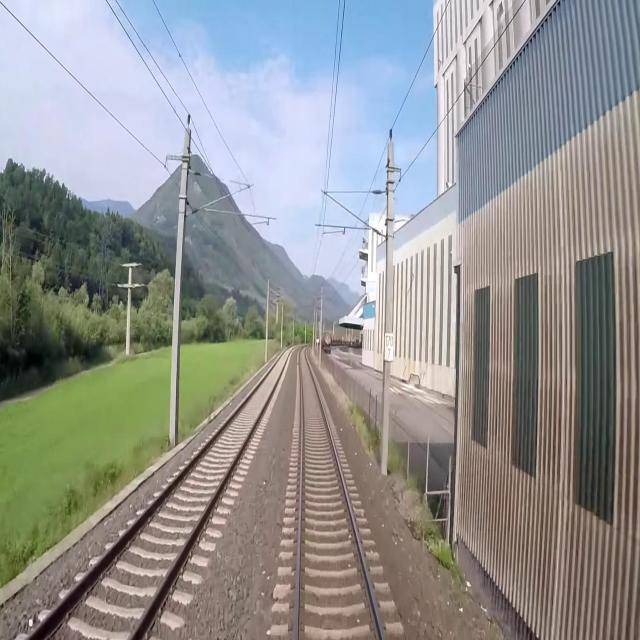rail-track: (32, 351, 288, 639), (299, 349, 380, 639)
